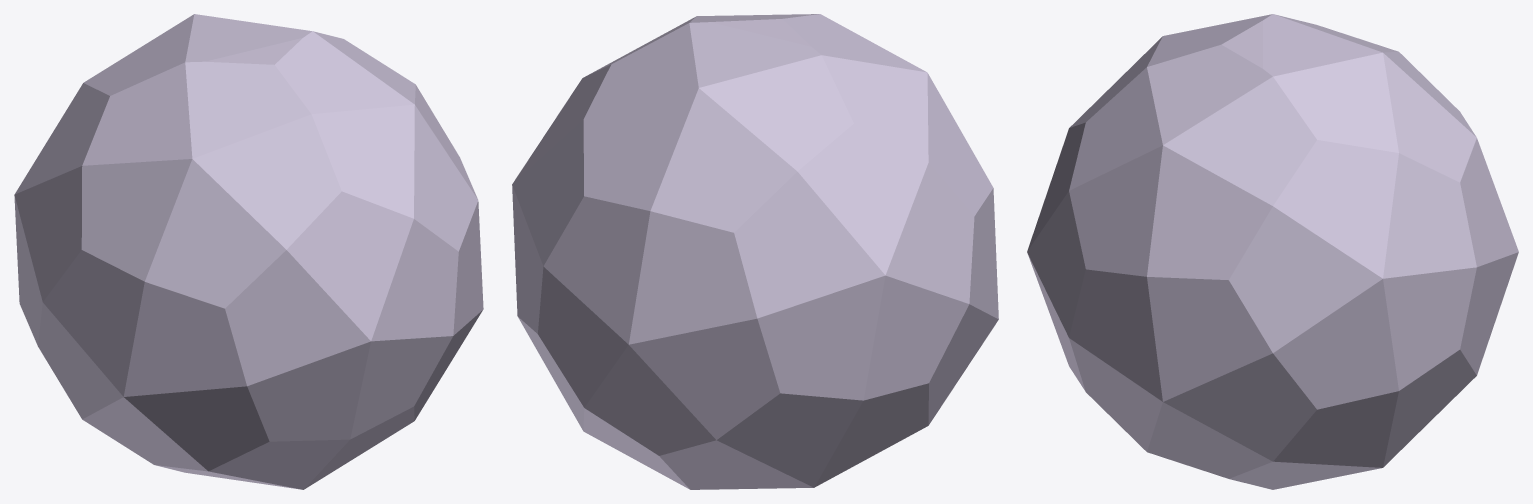
File: melodia.glb
The picture shows the model from 3 angles, left to right: view 1: azimuth 30°, elevation 25°; view 2: azimuth 150°, elevation 25°; view 3: azimuth 270°, elevation 25°; orthographic projection. The views are drawn at different scales.
Visible parts, largest first — view 1: Melodia; view 2: Melodia; view 3: Melodia.
Part boxes in pixels (<box>): Melodia: <box>14,14,483,489</box>; Melodia: <box>512,14,998,489</box>; Melodia: <box>1027,14,1518,489</box>.
Bounding box in the file's own units: 1.27 × 1.22 × 1.3.
